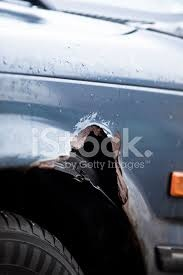Dent: (30, 121, 136, 207)
